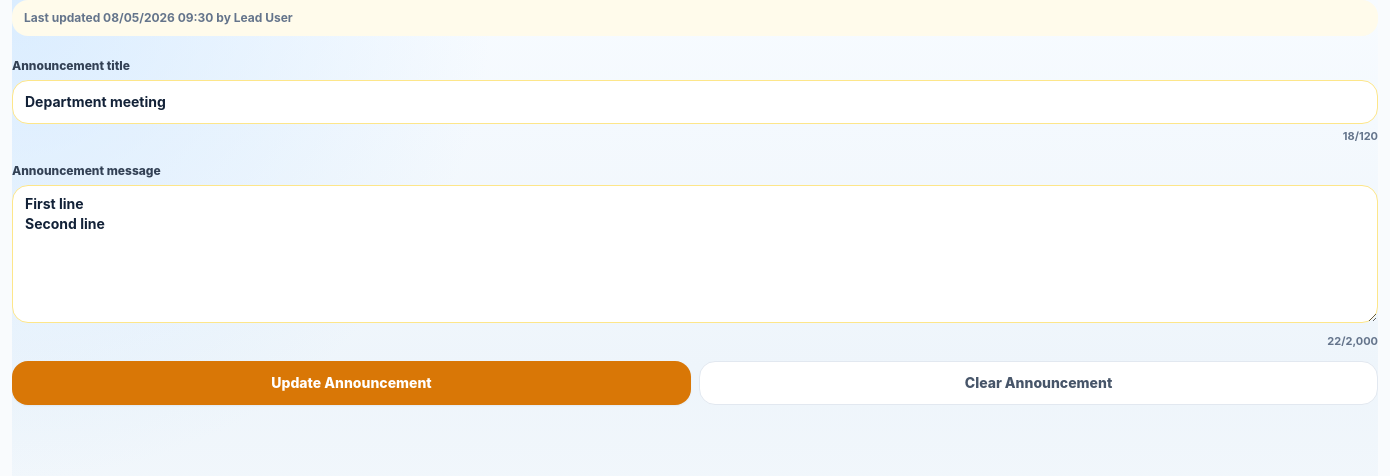
Test: department announcement UI › creates, replaces, updates, and clears through the shared editor
The image size is (1390, 476).
Expected: the button "Update Announcement" is shown, 12,361 -> 691,405
Replace the text in the field labelled "Announcement title 18/120" with "Updated title" at (695, 102), box 12,80 -> 1378,124
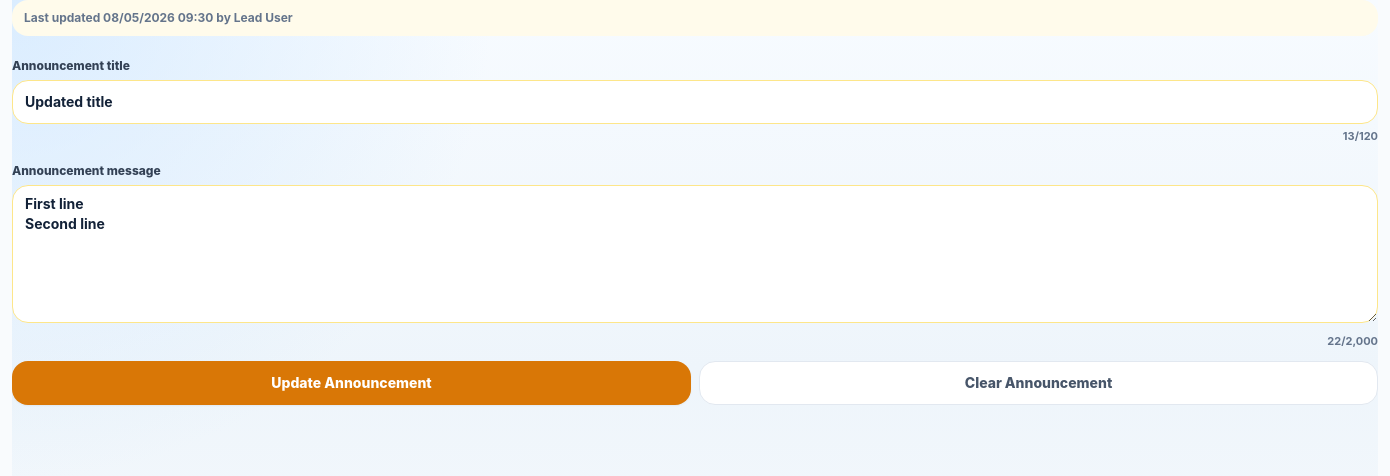
Replace the text in the text box labelled "Announcement message 22/2,000" with "Updated message" at (695, 254), box 12,184 -> 1378,322
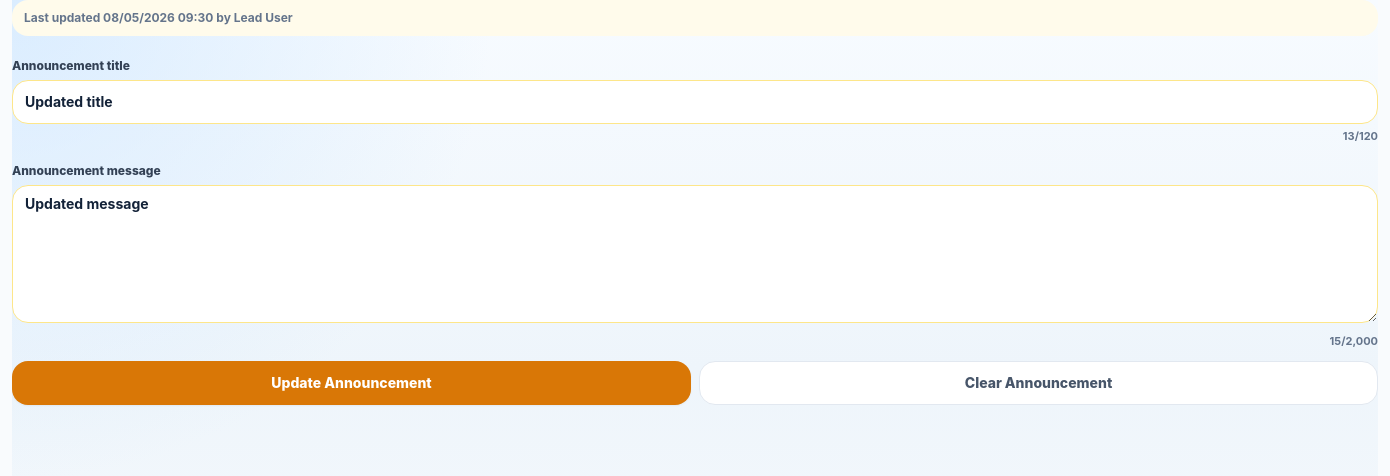
Click the button "Update Announcement" at (352, 383), box 12,361 -> 691,405
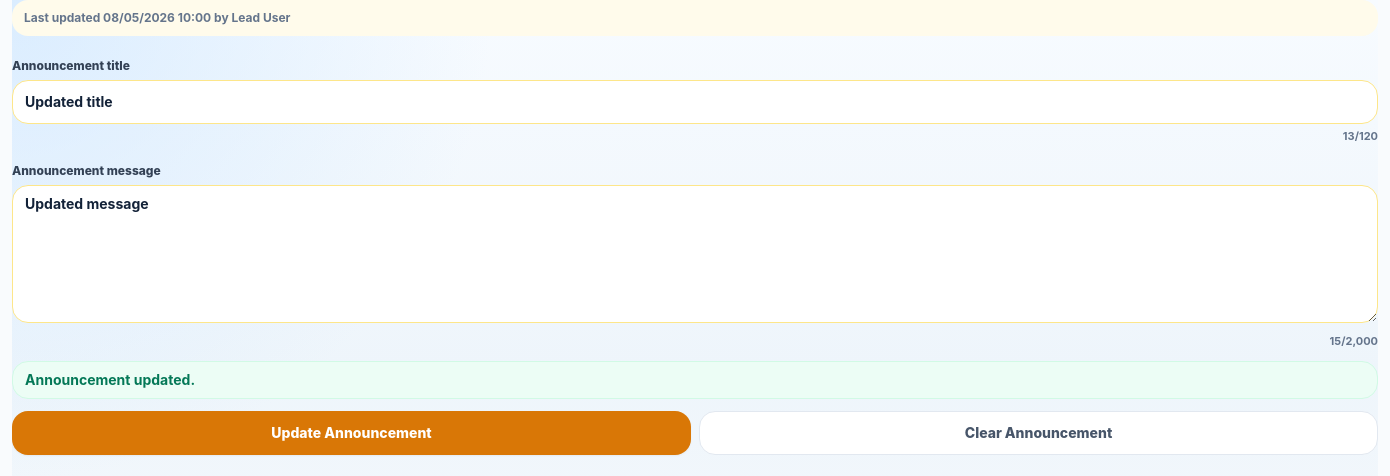
Result: the text "Announcement updated." is shown at 12,361 -> 1378,399
Click the button "Clear Announcement" at (1038, 433), box 699,411 -> 1378,455
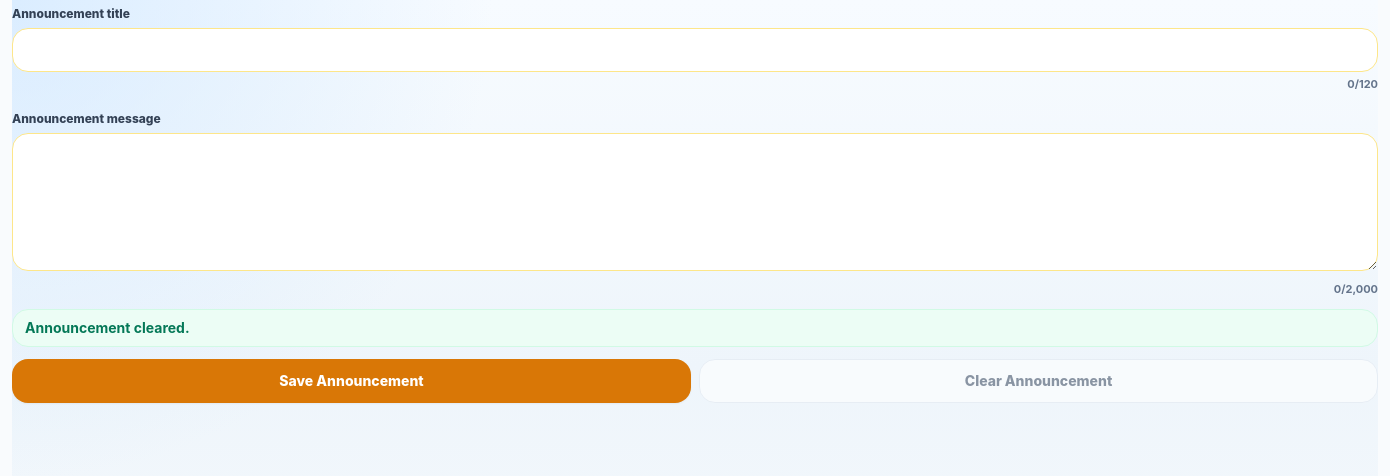
Result: the text "Announcement cleared." is shown at 12,309 -> 1378,347
Result: the button "Save Announcement" is shown at 12,359 -> 691,403
